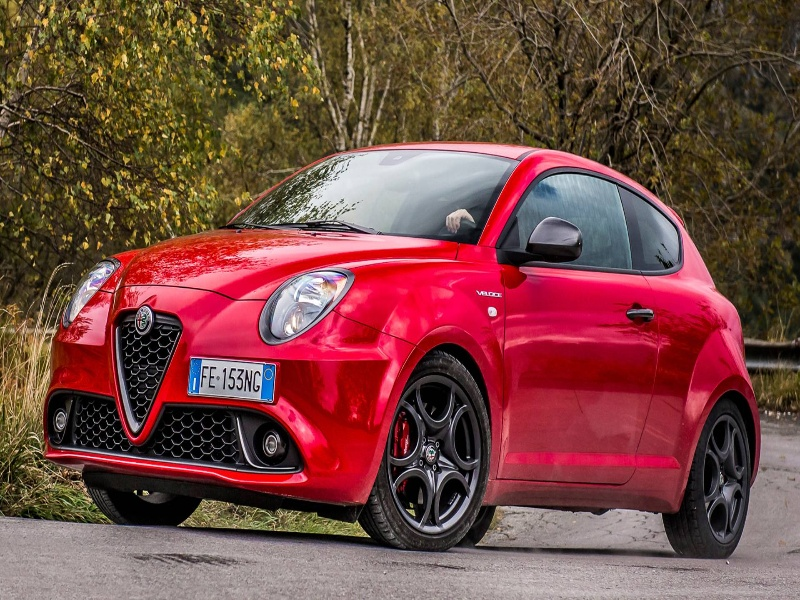licenceplate: (188, 355, 281, 405)
